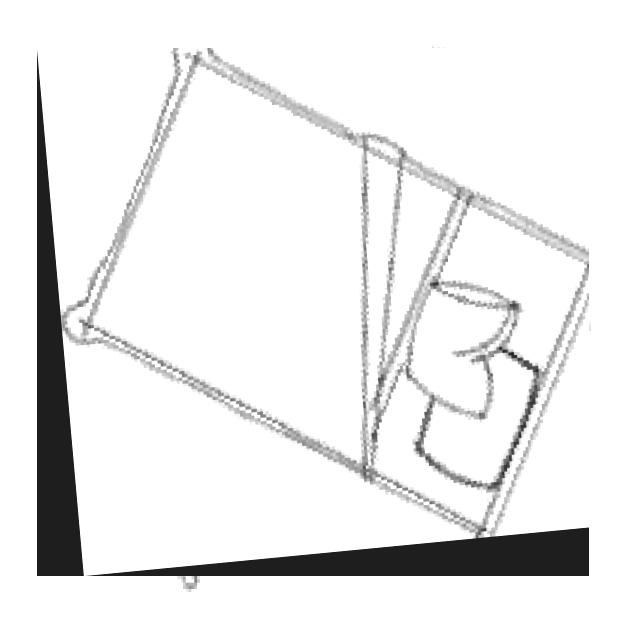bed: (37, 48, 589, 576)
